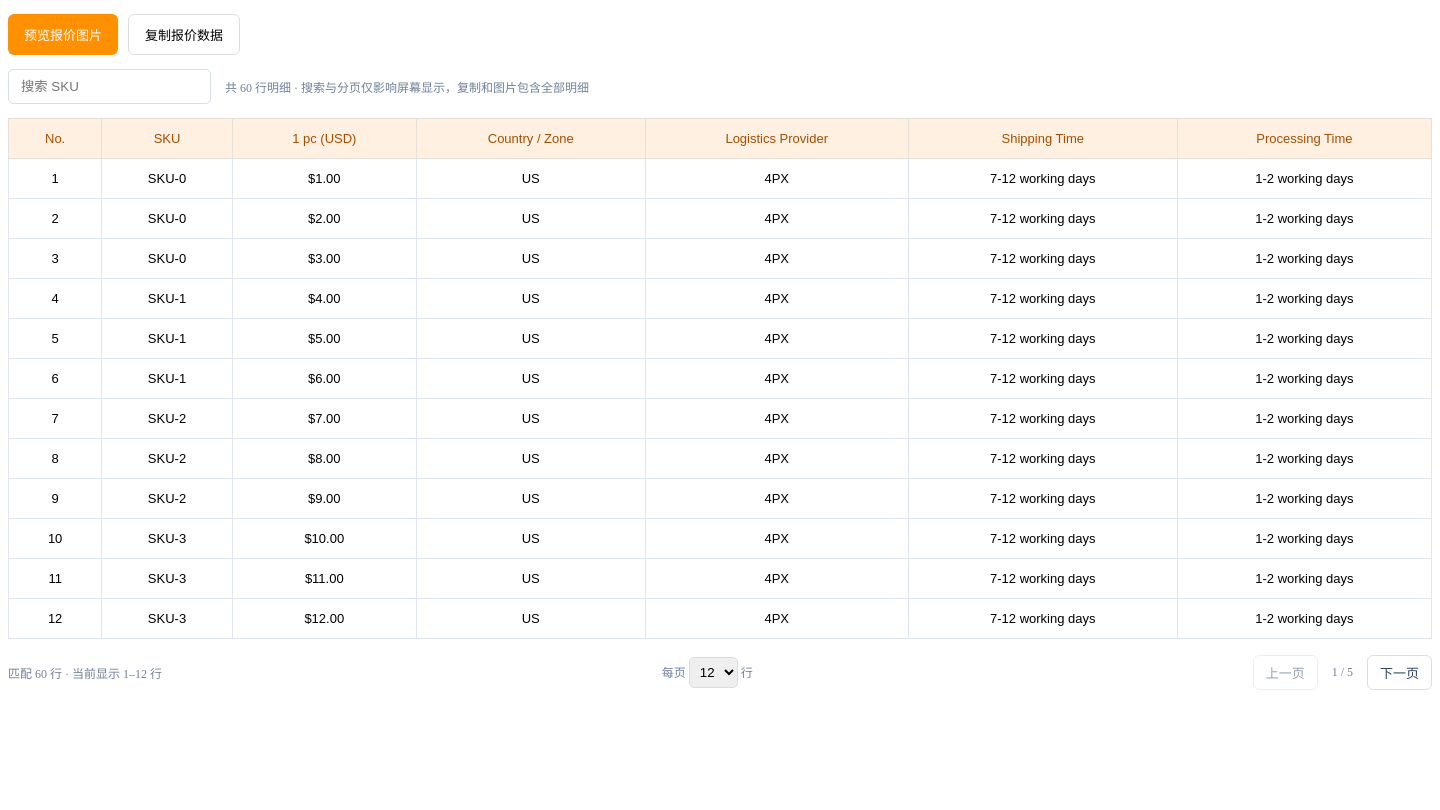
it: paginates and searches all SKUs without trimming exports or mutating the full sheet
Click the button "下一页": (1400, 672) x1=1367 y1=655 x2=1432 y2=690
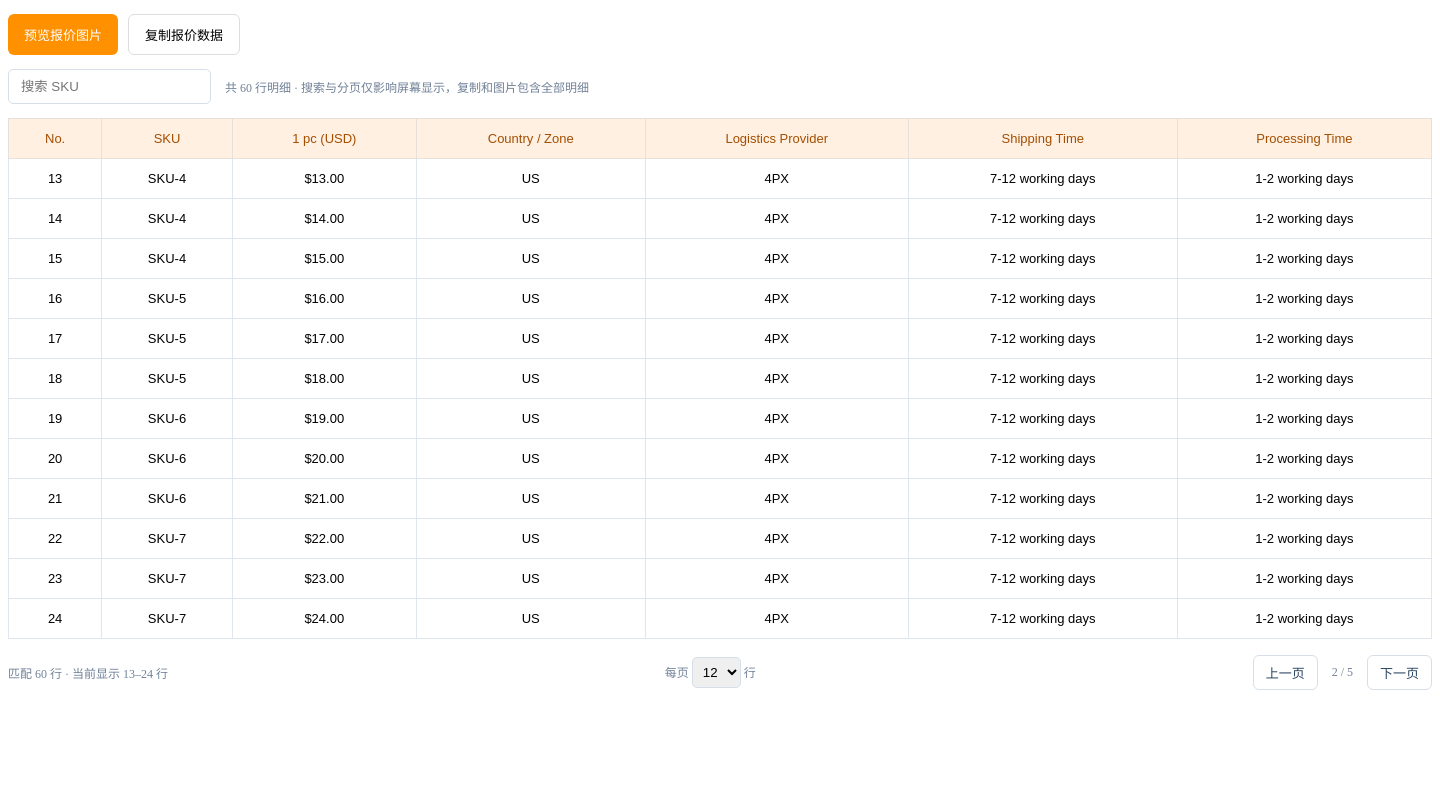
Now the row "13 SKU-4 $13.00 US 4PX 7-12 working days 1-2 working days" is shown, box x1=8 y1=158 x2=1432 y2=198
In the search field with placeholder "搜索 SKU": (110, 86) x1=8 y1=69 x2=211 y2=104, type "sku-19"
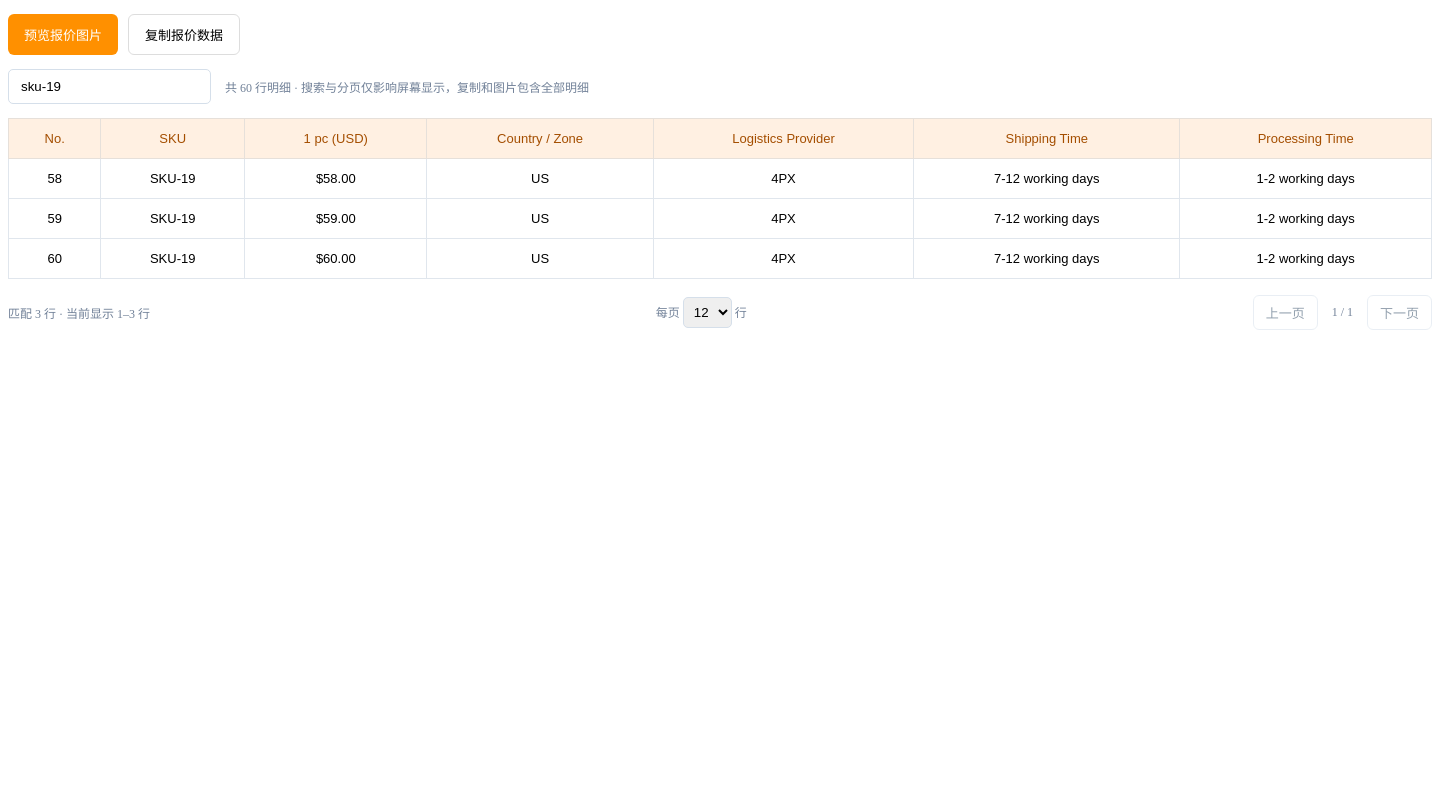
Now the cell "58" is shown, box x1=8 y1=158 x2=101 y2=198
Click the button "复制报价数据": (184, 34) x1=128 y1=14 x2=240 y2=55
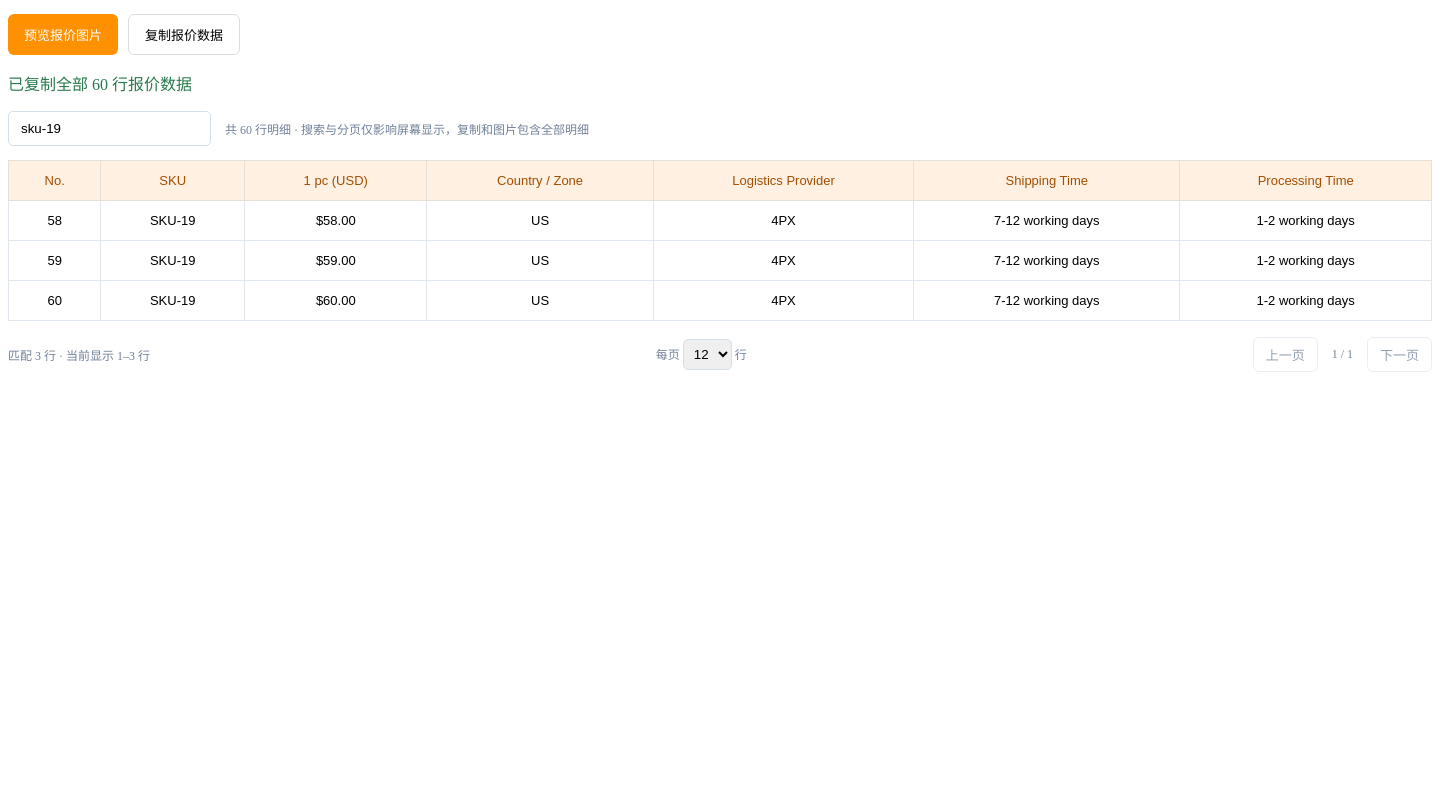
Click the button "预览报价图片": (63, 34) x1=8 y1=14 x2=118 y2=55
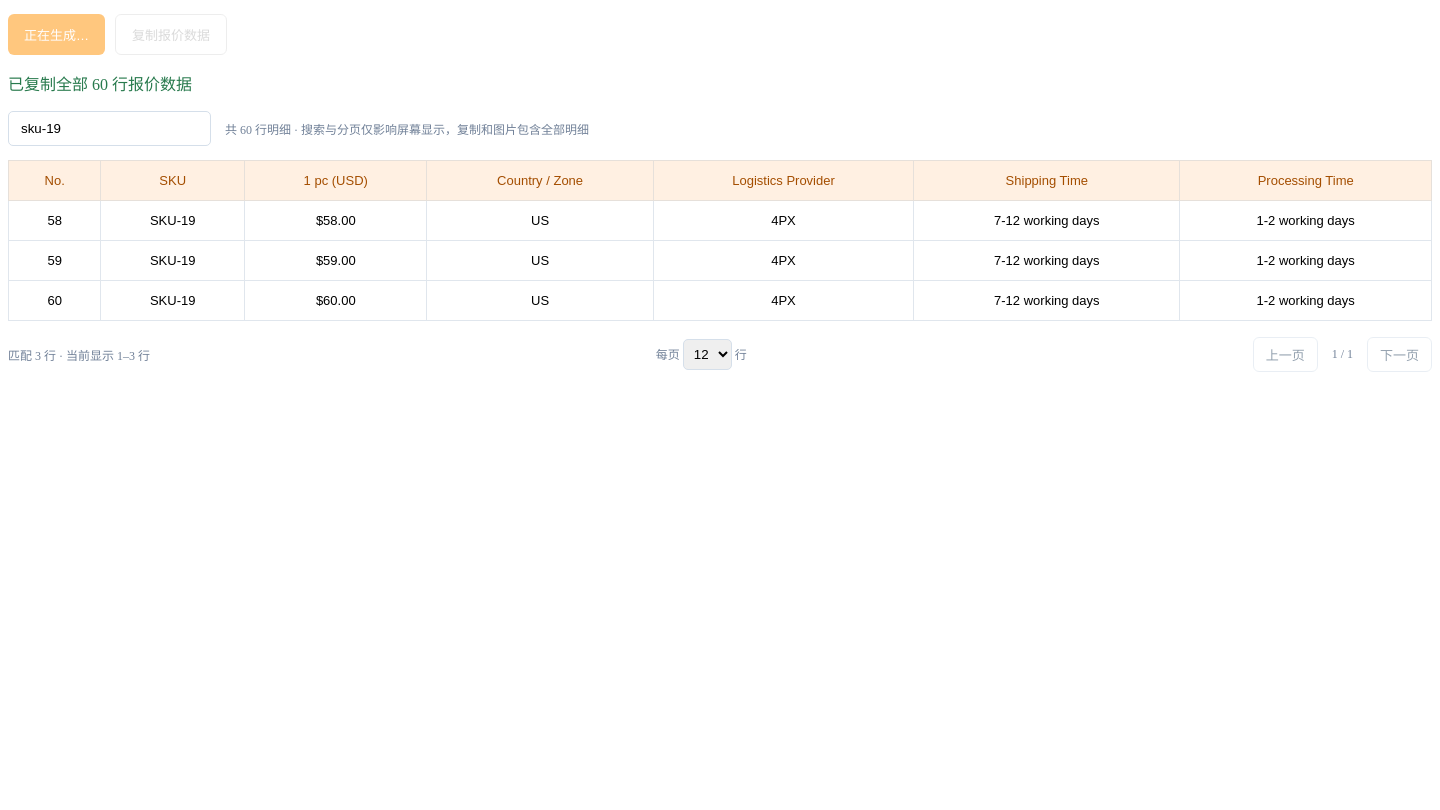
Replace the text in the search field named "搜索报价单 SKU" with "missing": (110, 128) x1=8 y1=111 x2=211 y2=146
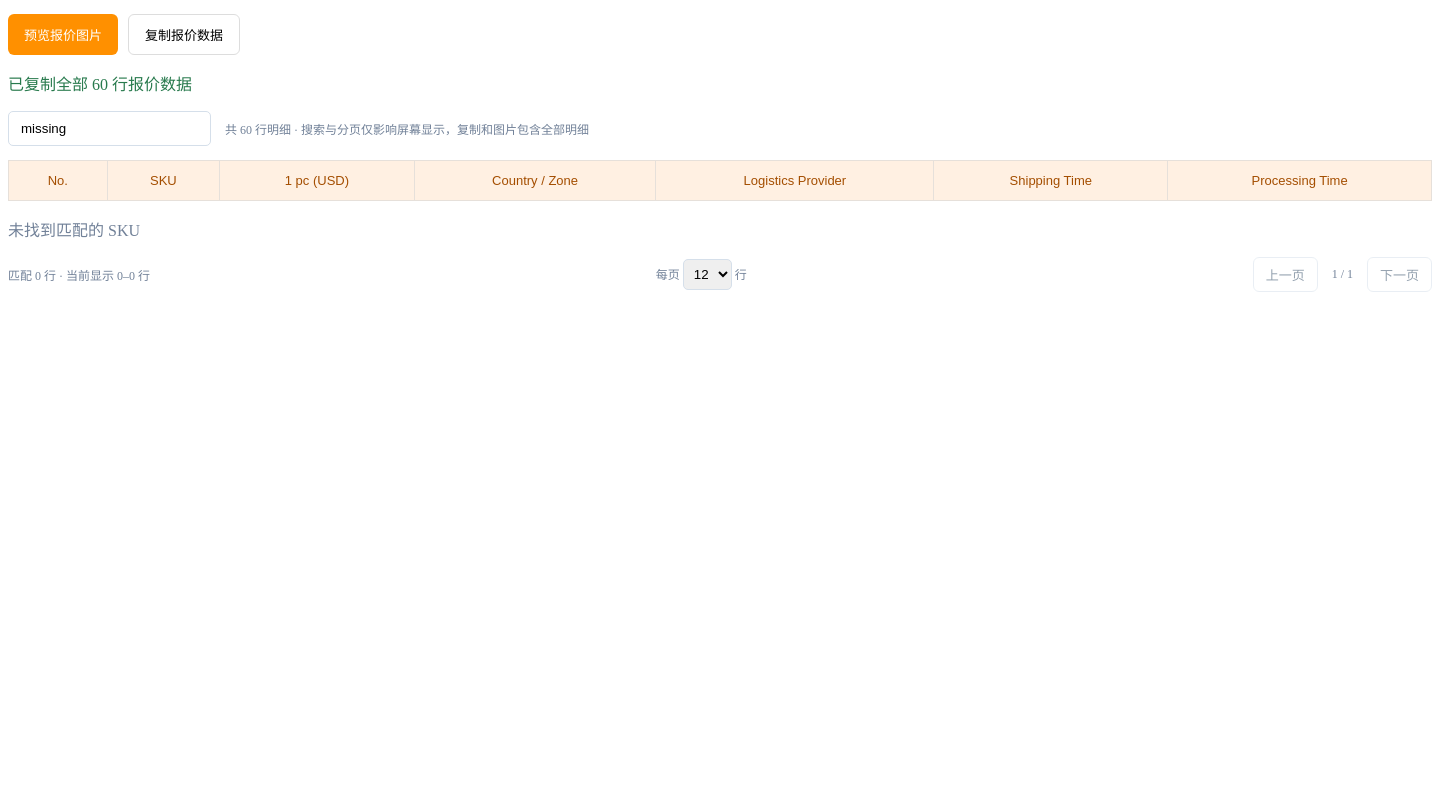
Now the button "下一页" is disabled, box x1=1367 y1=257 x2=1432 y2=292
Now the text "未找到匹配的 SKU" is shown, box x1=8 y1=222 x2=140 y2=239
